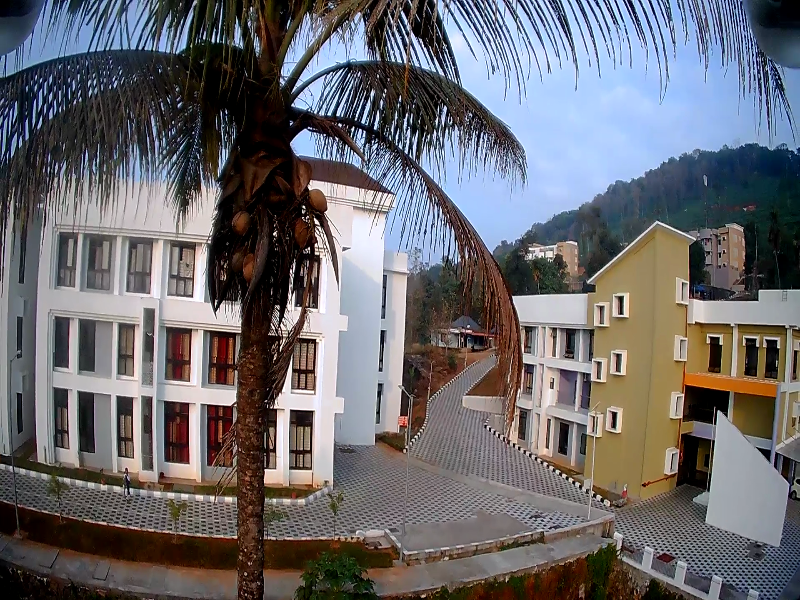coconut: (306, 185, 328, 219), (222, 207, 248, 235), (292, 220, 315, 251), (243, 255, 261, 286), (228, 250, 248, 270)
